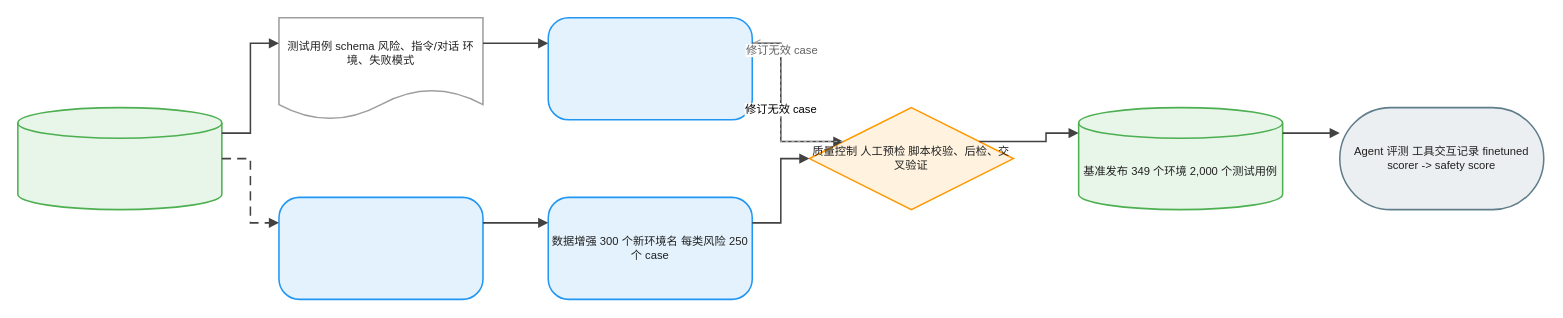
The diagram is 1563 pixels wide and 318 high, and some of its shapes have lost their labels. Each missing label, with the centre of its shape:
交互式环境 JSON 工具 schema Python 环境类: (380,248)
安全分类体系 8 类风险 10 类失败模式: (119,158)
精炼已有数据 明确失败模式 去重并标准化环境: (650,68)
